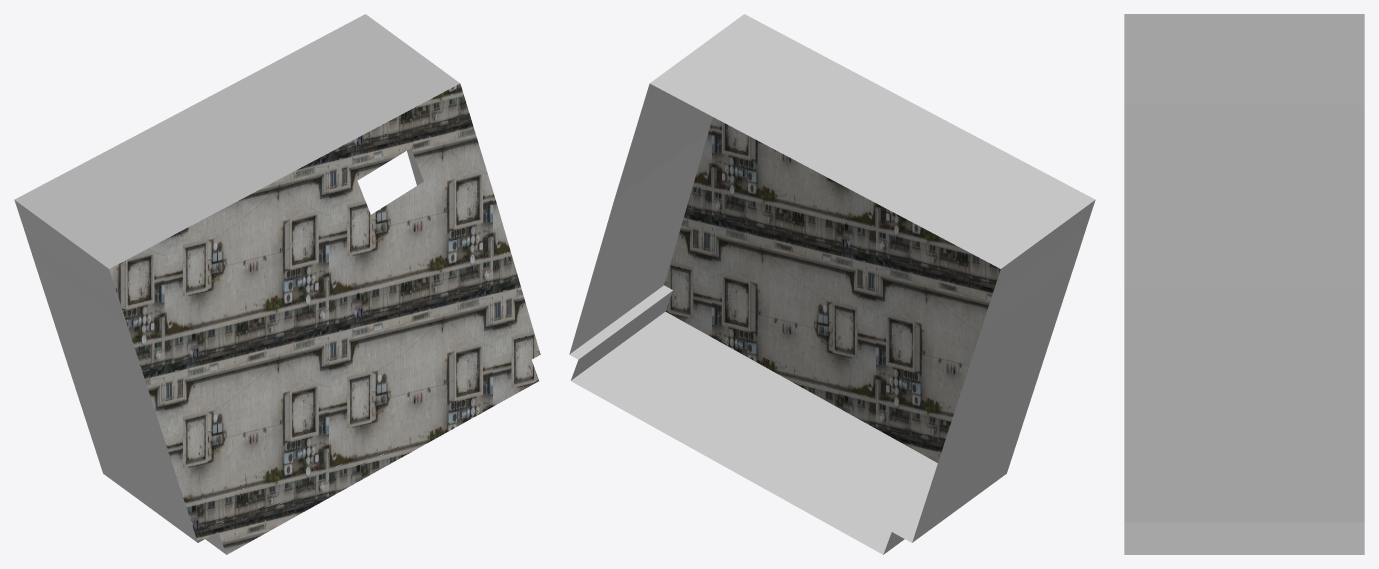
File: geospecific_243.obj
3 renders of one model, left to right at view 1: azimuth 30°, elevation 25°; view 2: azimuth 150°, elevation 25°; view 3: azimuth 270°, elevation 25°, orthographic. The views are drawn at different scales.
Parts seen in each view (by area): view 1: Building; view 2: Building; view 3: Building.
Part boxes in pixels (x1,y1,x2,y2): Building: (14, 14, 540, 554); Building: (569, 14, 1095, 554); Building: (1124, 14, 1364, 554).
Bounding box in the file's own units: 23.65 × 21.71 × 9.
